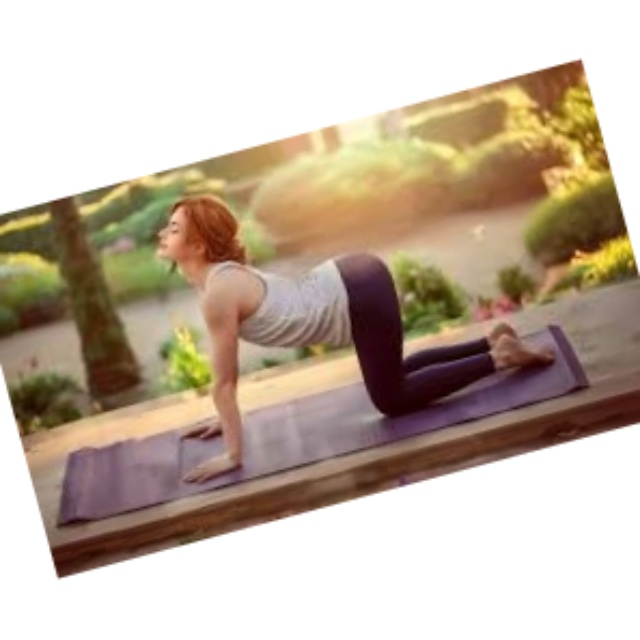Cow_Pose: (156, 196, 554, 489)
